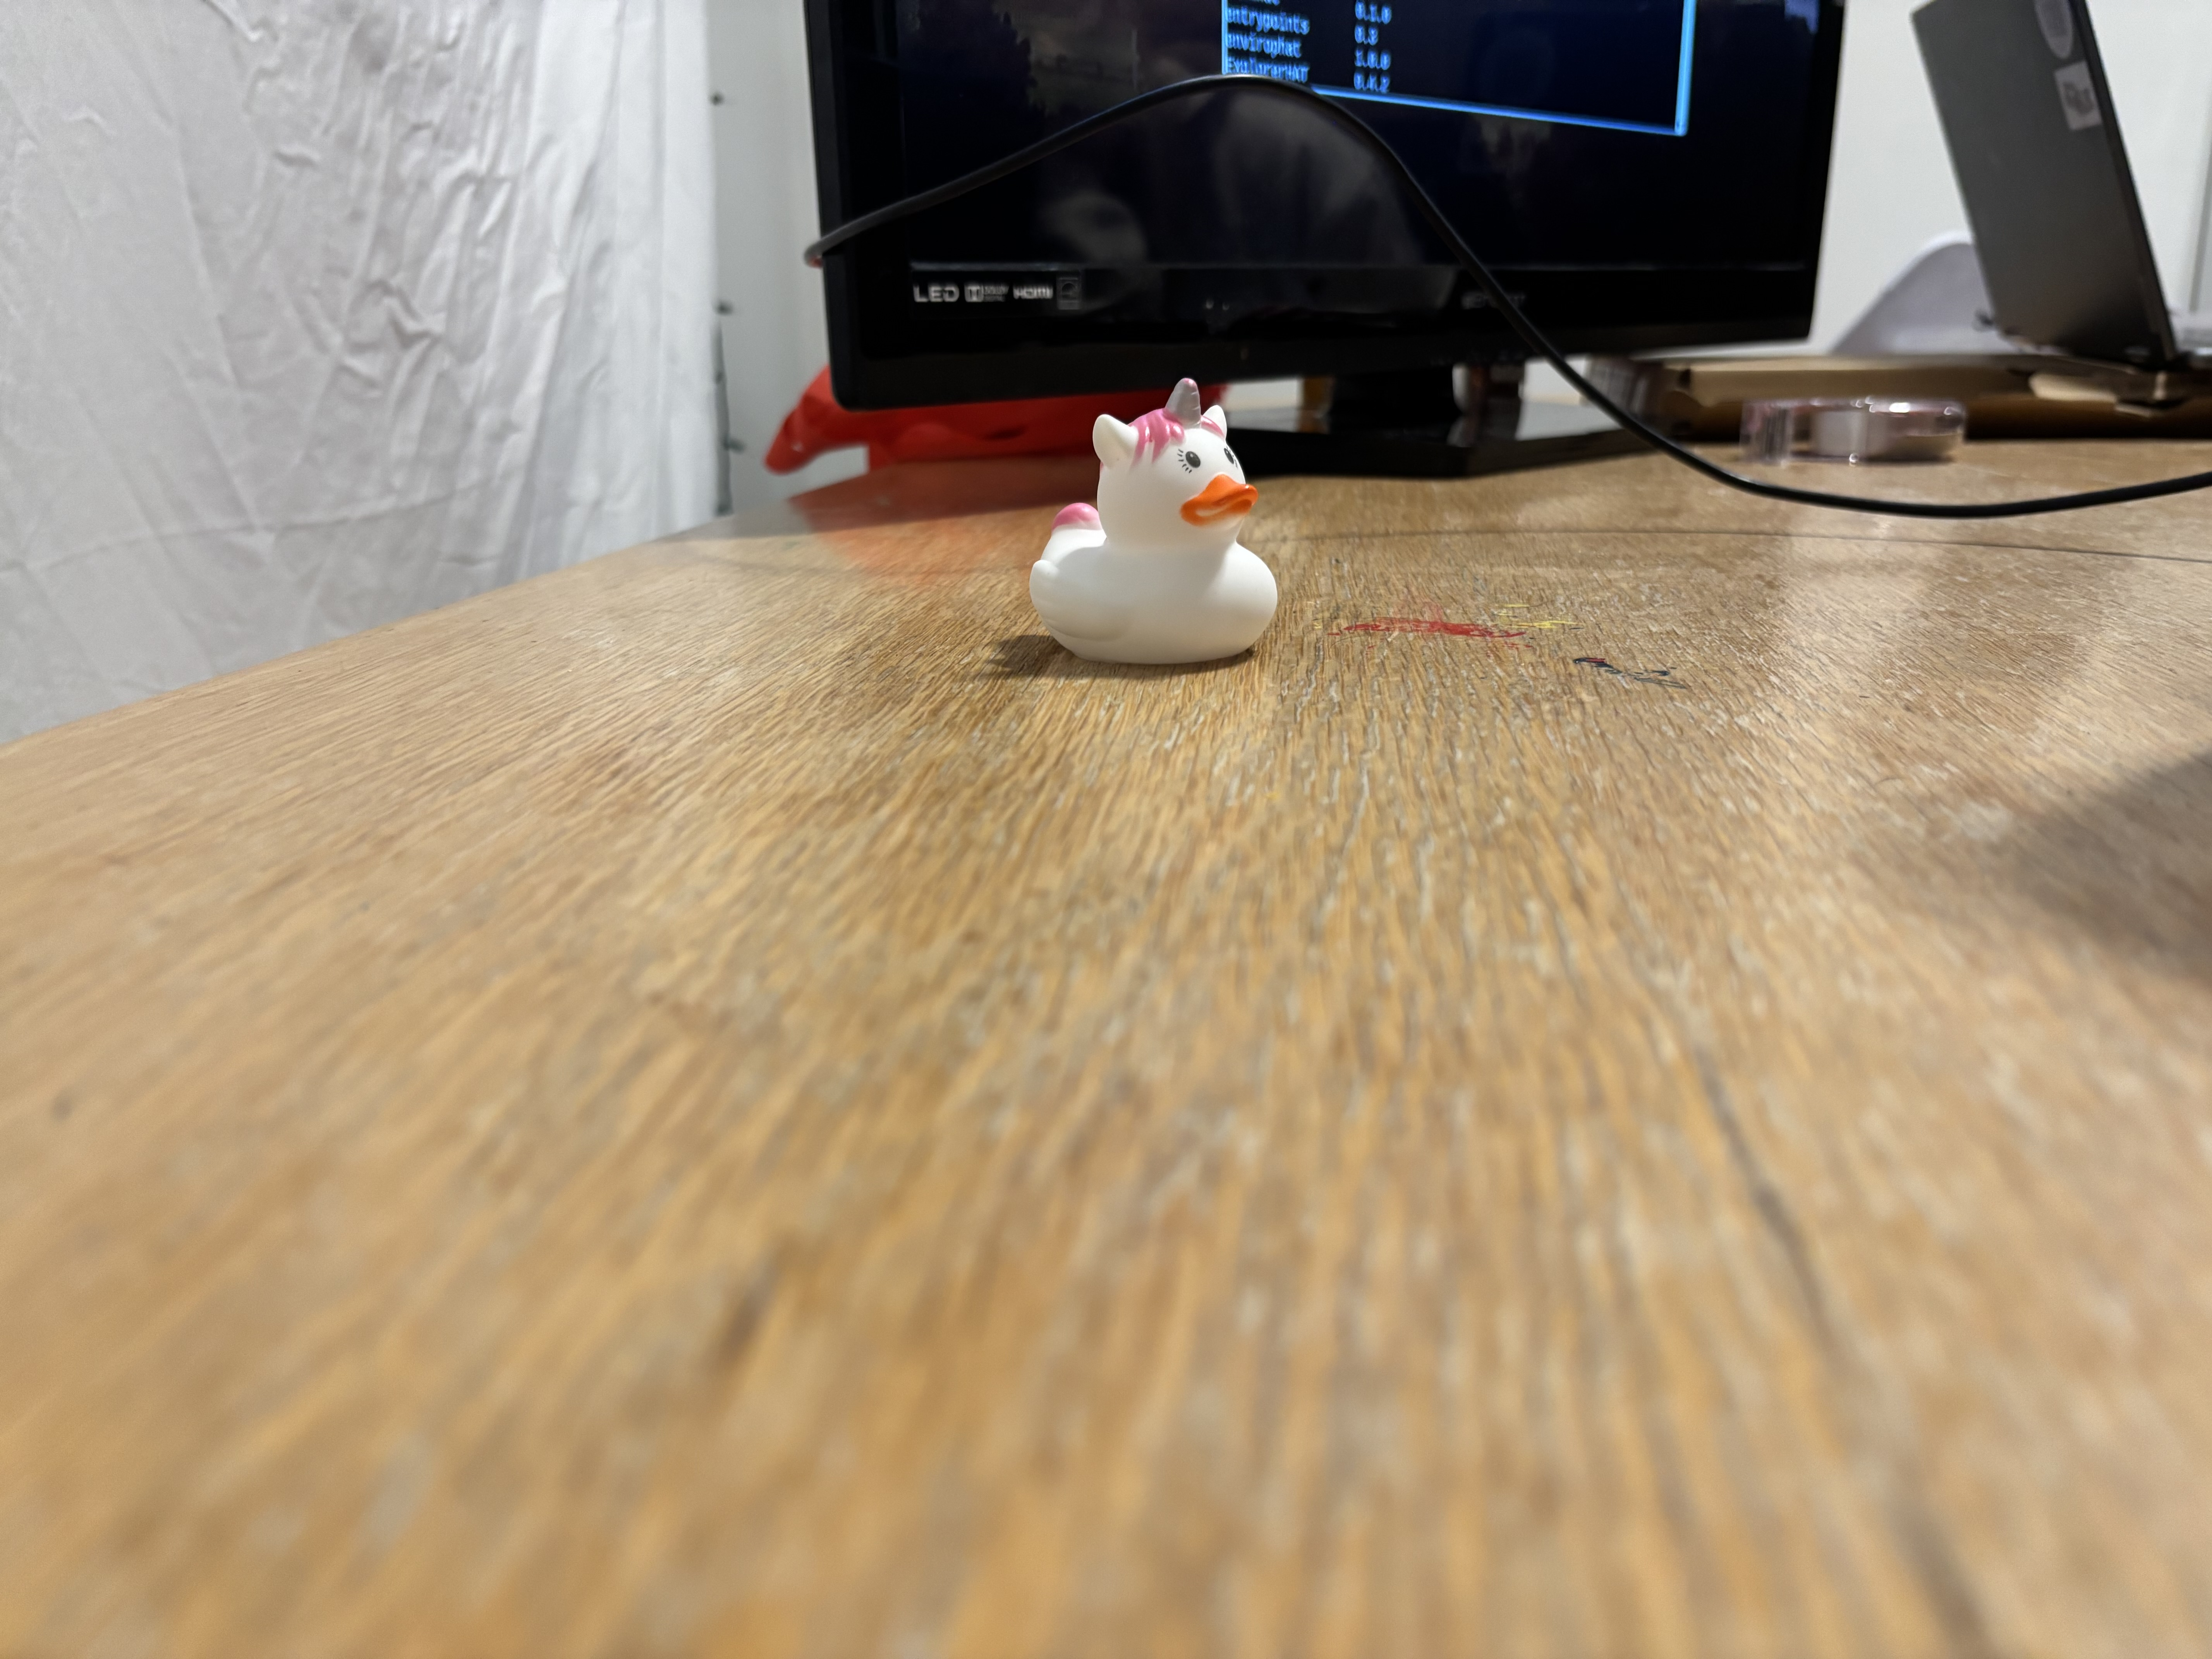Ducks (Specialty): (1005, 371, 1292, 666)
